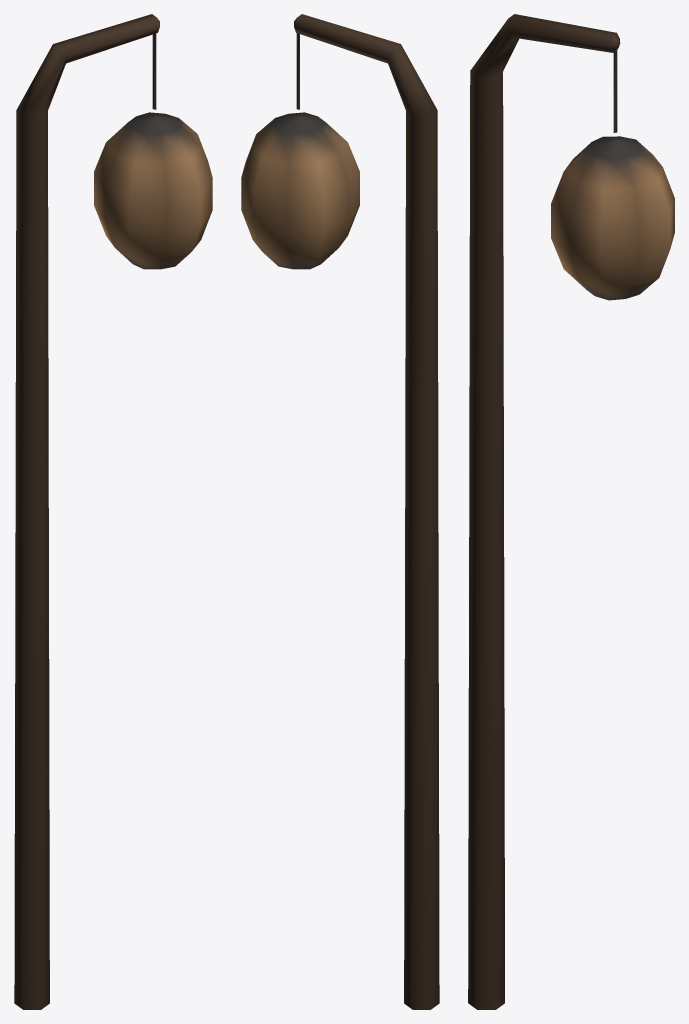
The model's file is fair_lantern.glb.
The picture shows the model from 3 angles, left to right: view 1: azimuth 30°, elevation 25°; view 2: azimuth 150°, elevation 25°; view 3: azimuth 330°, elevation 25°; orthographic projection. The views are drawn at different scales.
Visible parts, largest first — view 1: fair_lantern; view 2: fair_lantern; view 3: fair_lantern.
Boxes of the visible parts, bbox=[...] form: fair_lantern: bbox=[14, 14, 212, 1009]; fair_lantern: bbox=[241, 14, 439, 1009]; fair_lantern: bbox=[468, 14, 674, 1009].
Size of the model in its own units: 0.555 by 2.68 by 0.2967.
